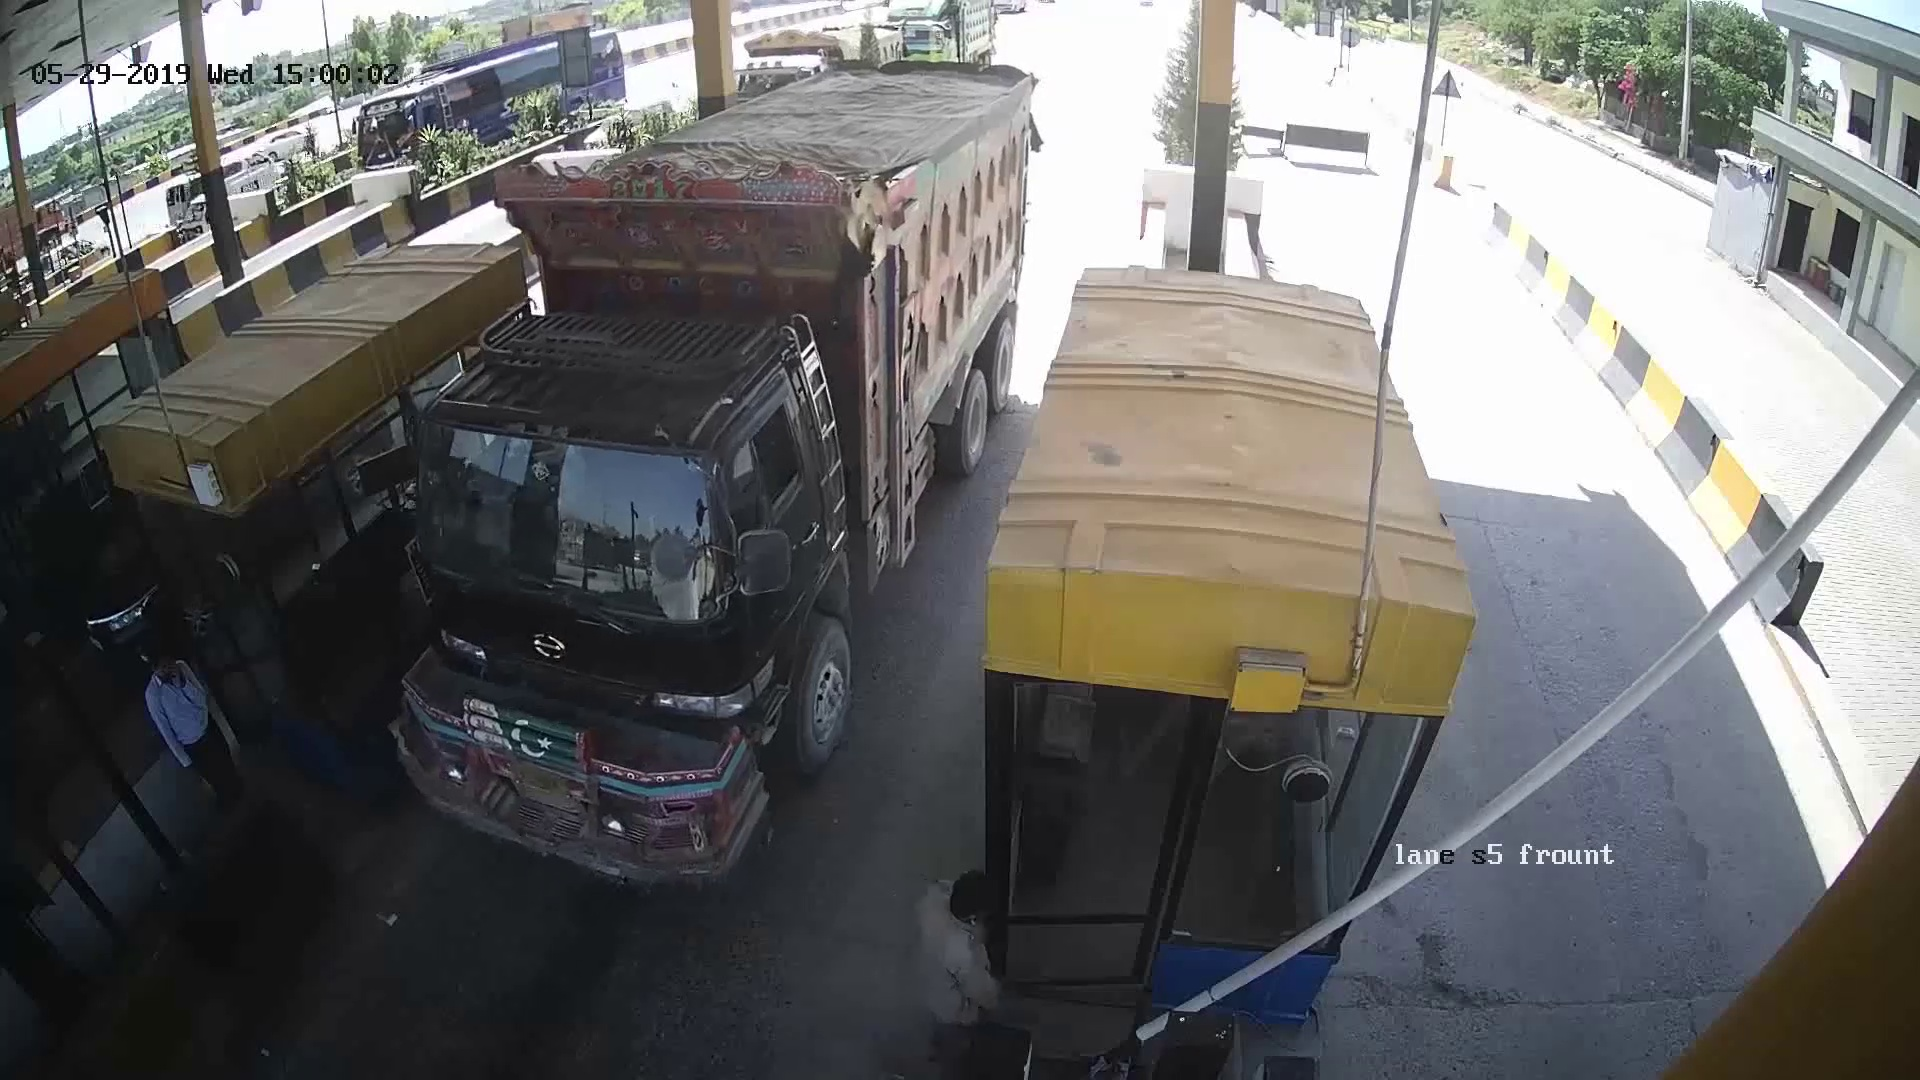truck: (386, 61, 1025, 893)
